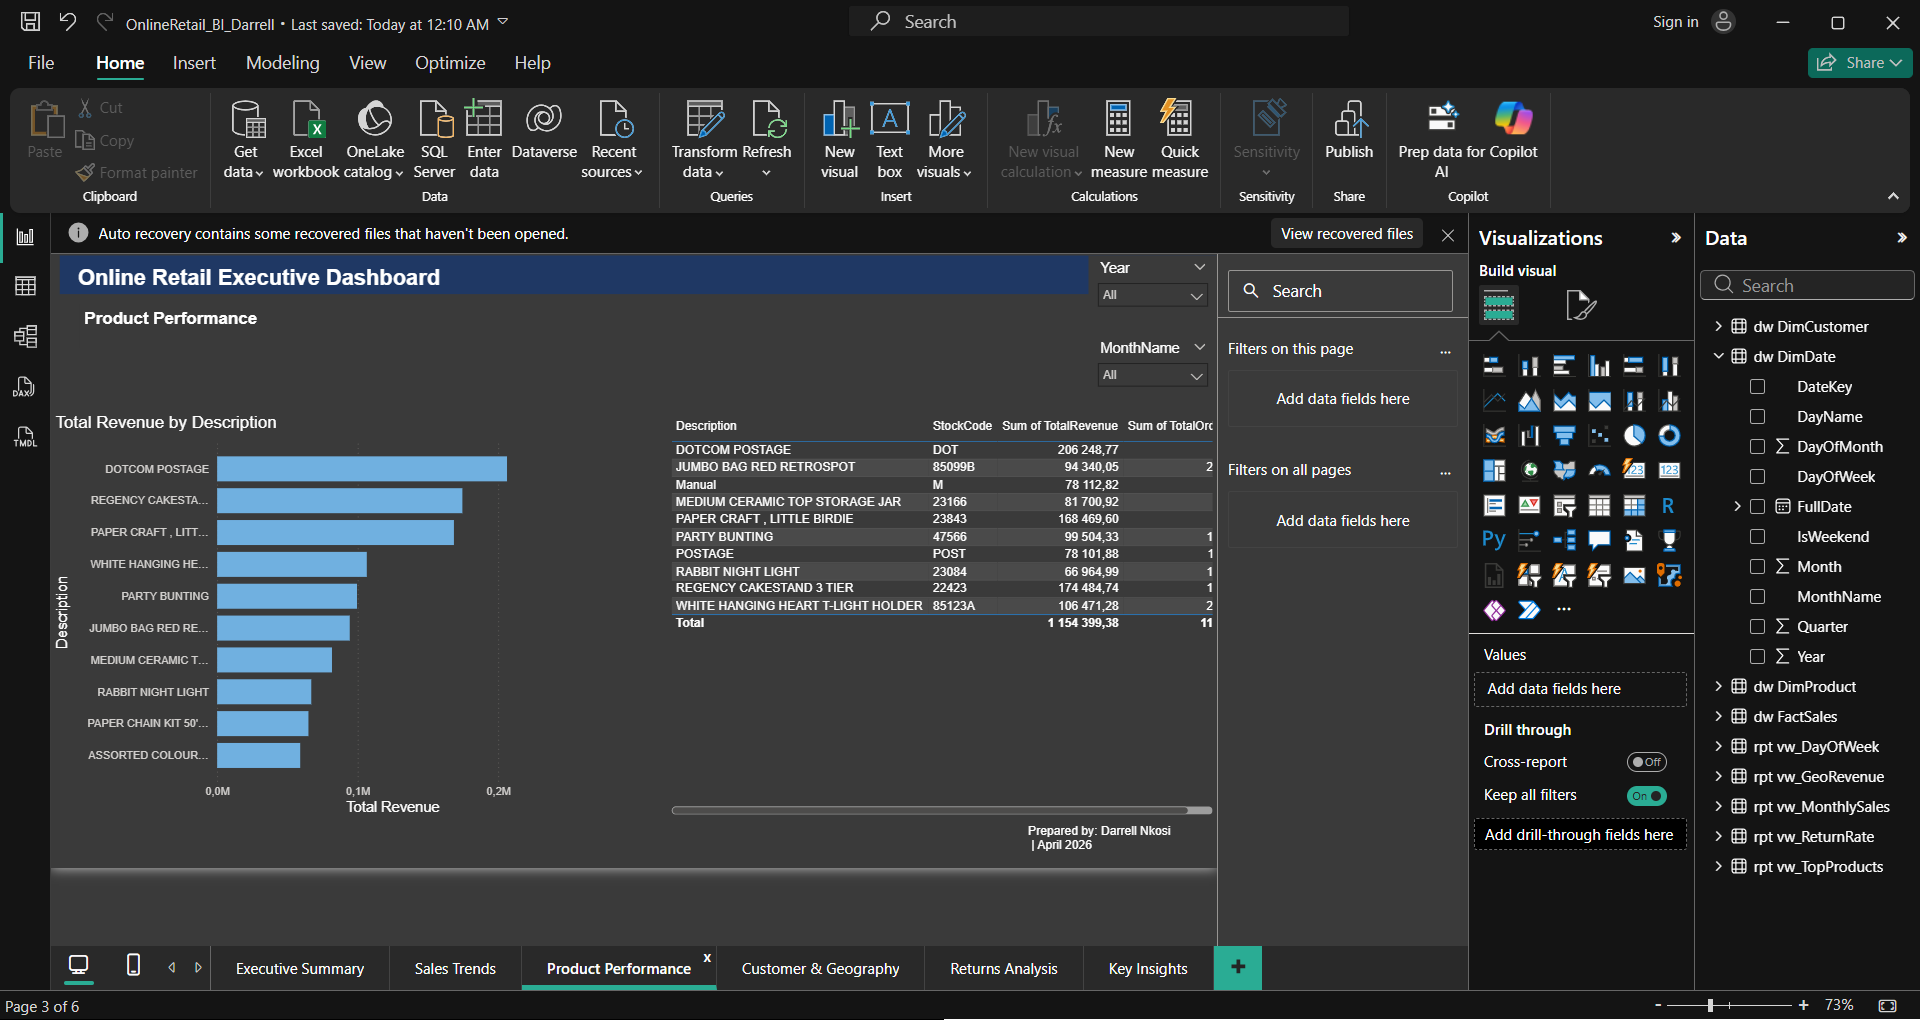

The page's visual inventory and layout, read from the dashboard file:
{"tool":"powerbi","page":{"name":"Product Performance","canvas":[1280,720],"ordinal":2},"visuals":[{"type":"clusteredBarChart","fields":{"Category":["dw DimProduct.Description"],"Y":["dw FactSales.Total Revenue"]},"box":[0,219.6,587.3,446],"z":0},{"type":"tableEx","fields":{"Values":["rpt vw_TopProducts.Description","rpt vw_TopProducts.StockCode","Sum(rpt vw_TopProducts.TotalRevenue)","Sum(rpt vw_TopProducts.TotalOrders)"]},"box":[675.1,219.6,605.1,446],"z":1000},{"type":"textbox","box":[9.6,46.7,1269.3,42.5],"z":2000},{"type":"textbox","box":[31.6,100.2,1247.3,48],"z":3000},{"type":"slicer","fields":{"Values":["dw DimDate.Year"]},"box":[1138.7,46.7,141.3,87.8],"z":4000},{"type":"slicer","fields":{"Values":["dw DimDate.MonthName"]},"box":[1138.7,134.5,141.3,85.1],"z":5000},{"type":"textbox","box":[1067.3,665.1,212.7,54.9],"z":6000}]}

Visuals, with their boxes on the page's 1280x720 design canvas (x1, y1, x2, y2). These are canvas units, not pixel positions in the 1920x1020 screenshot, which may show the page scaled, cropped or inside an application window:
clusteredBarChart - dw DimProduct.Description x dw FactSales.Total Revenue: <box>0,220,587,666</box>
tableEx - rpt vw_TopProducts.Description x rpt vw_TopProducts.StockCode: <box>675,220,1280,666</box>
textbox: <box>10,47,1279,89</box>
textbox: <box>32,100,1279,148</box>
slicer - dw DimDate.Year: <box>1139,47,1280,134</box>
slicer - dw DimDate.MonthName: <box>1139,134,1280,220</box>
textbox: <box>1067,665,1280,720</box>
